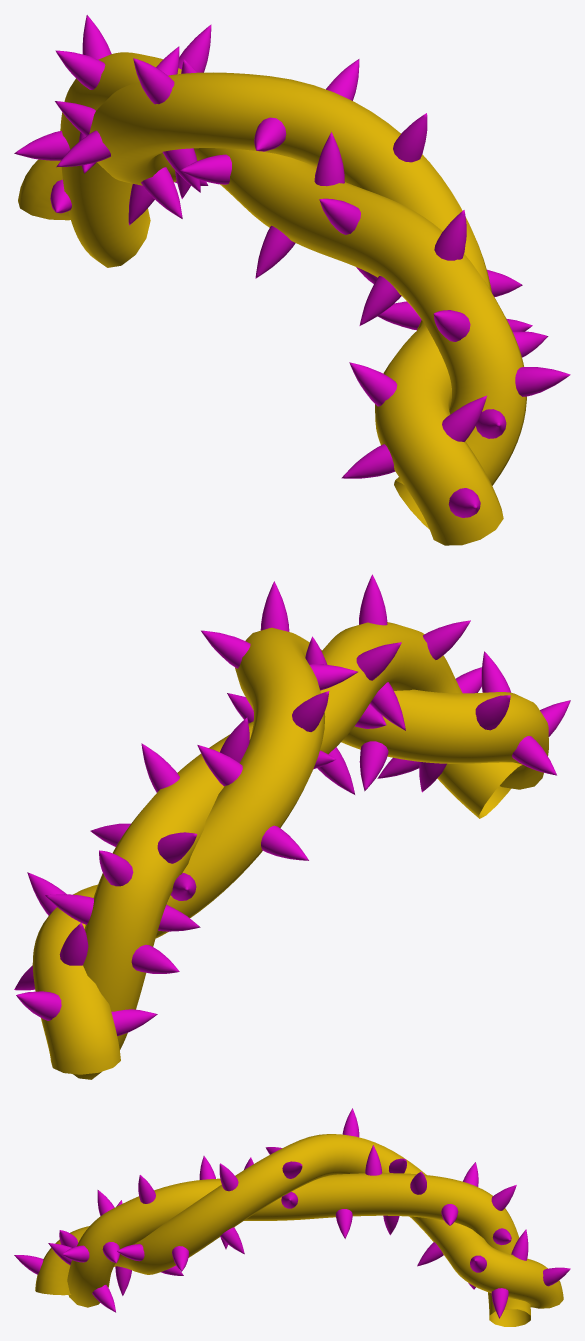
File: Vine1.fbx
3 views of the same model, one above another, from view 1: azimuth 30°, elevation 25°; view 2: azimuth 150°, elevation 25°; view 3: azimuth 270°, elevation 25° (orthographic). The views are drawn at different scales.
Parts seen in each view (by area): view 1: Bramble1; view 2: Bramble1; view 3: Bramble1.
Part boxes in pixels (bbox=[...]): Bramble1: bbox=[14, 15, 570, 545]; Bramble1: bbox=[14, 574, 570, 1079]; Bramble1: bbox=[14, 1108, 570, 1326].
Bounding box in the file's own units: 326 × 392 × 1048.
